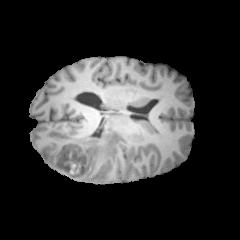glioma: (43, 127, 127, 180)
